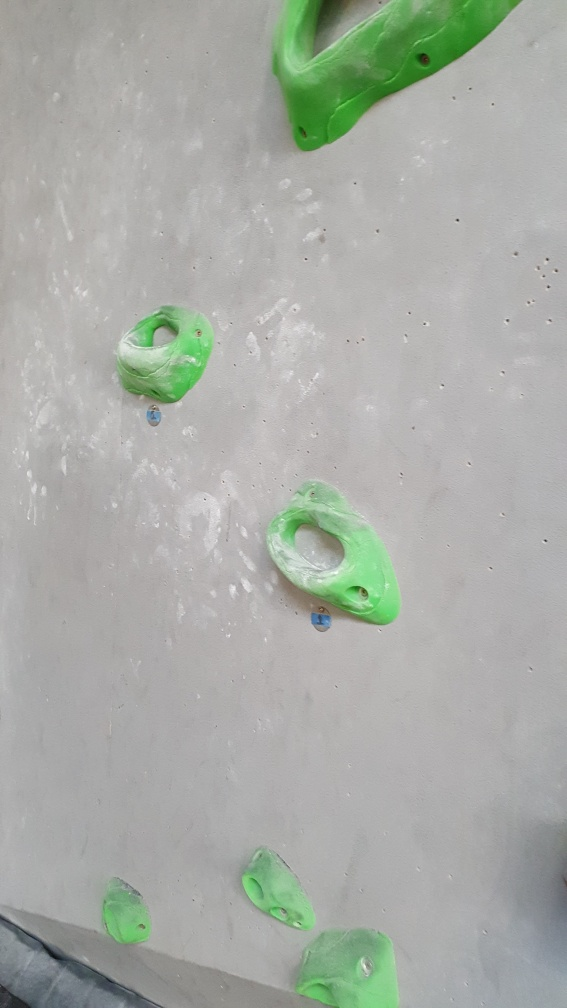Hand Start: (304, 601, 335, 640), (141, 402, 162, 431)
Pocket: (264, 1, 525, 155), (261, 473, 401, 624), (112, 303, 215, 407)
